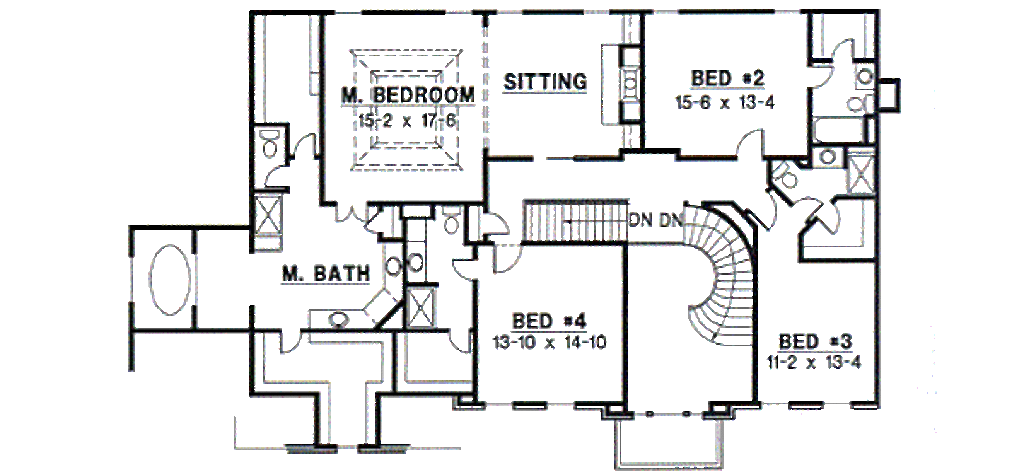door: (729, 127, 765, 162), (812, 200, 842, 237), (829, 35, 857, 67), (492, 244, 520, 276), (447, 325, 479, 353), (334, 199, 368, 222), (291, 128, 318, 156), (483, 207, 508, 237), (808, 61, 835, 88), (276, 327, 302, 355), (263, 161, 289, 188), (449, 256, 475, 280)
large_sink: (252, 125, 284, 163), (433, 204, 465, 234), (846, 92, 875, 118)
small_sink: (307, 306, 377, 332), (379, 242, 405, 302), (406, 225, 425, 286)
stairs: (676, 204, 757, 348)
tub: (135, 227, 194, 332), (808, 114, 867, 148)
